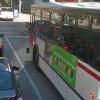Bus: (25, 0, 98, 99)
